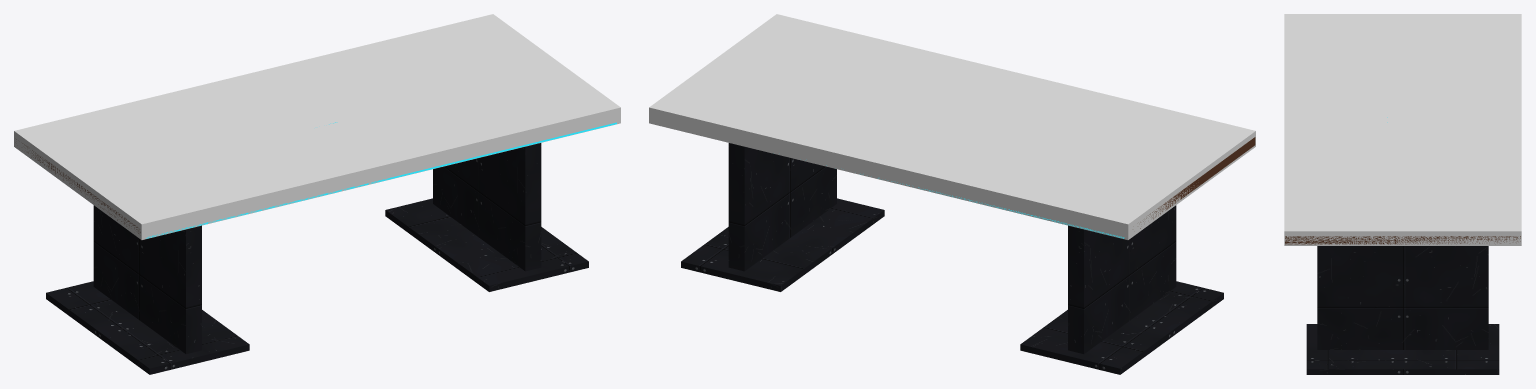
File: Furn_MeetingTable.gltf
3 renders of one model, left to right at view 1: azimuth 30°, elevation 25°; view 2: azimuth 150°, elevation 25°; view 3: azimuth 270°, elevation 25°, orthographic. The views are drawn at different scales.
Visible parts, largest first — view 1: Furn_MeetingTable_COL, Furn_MeetingTable; view 2: Furn_MeetingTable_COL, Furn_MeetingTable; view 3: Furn_MeetingTable_COL, Furn_MeetingTable.
Boxes of the visible parts, x1=… form: Furn_MeetingTable_COL: x1=14, y1=14, x2=620, y2=239; Furn_MeetingTable: x1=16, y1=122, x2=616, y2=374; Furn_MeetingTable_COL: x1=649, y1=14, x2=1255, y2=239; Furn_MeetingTable: x1=681, y1=137, x2=1255, y2=374; Furn_MeetingTable_COL: x1=1284, y1=14, x2=1521, y2=245; Furn_MeetingTable: x1=1285, y1=117, x2=1520, y2=374.
Size of the model in its own units: 2.4 by 0.786 by 1.11.
5 materials, 1 textured.
